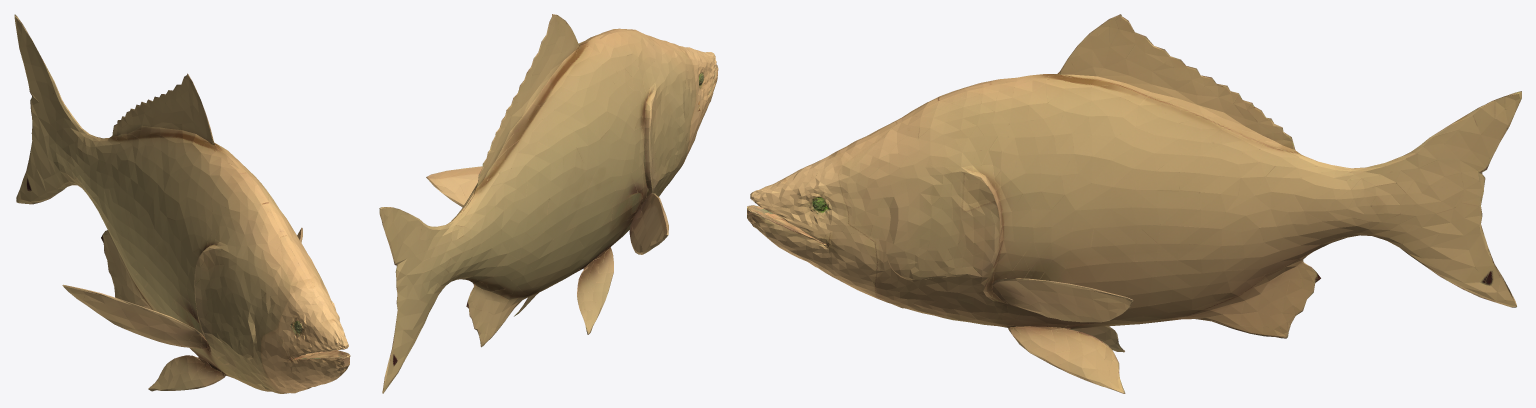
The model's file is fish.glb.
3 renders of one model, left to right at view 1: azimuth 30°, elevation 25°; view 2: azimuth 150°, elevation 25°; view 3: azimuth 270°, elevation 25°, orthographic. The views are drawn at different scales.
Size of the model in its own units: 3.26 by 4 by 7.82.
1 material, 1 textured.
